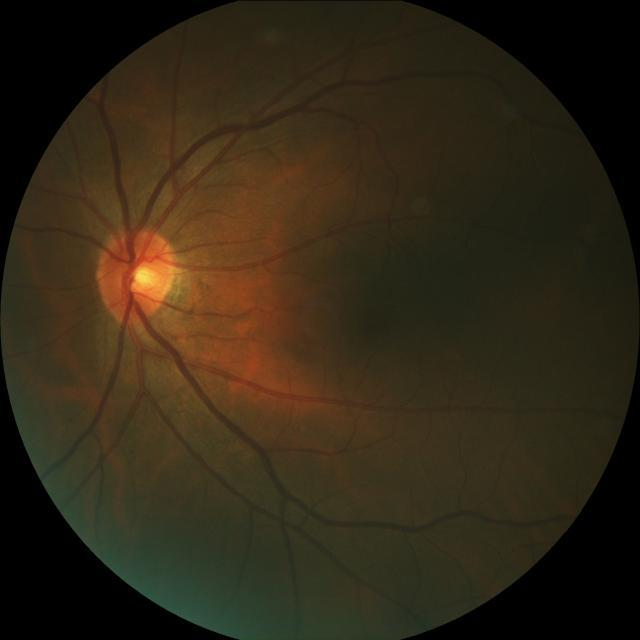OC: (129, 265, 157, 291)
OD: (95, 225, 174, 322)
